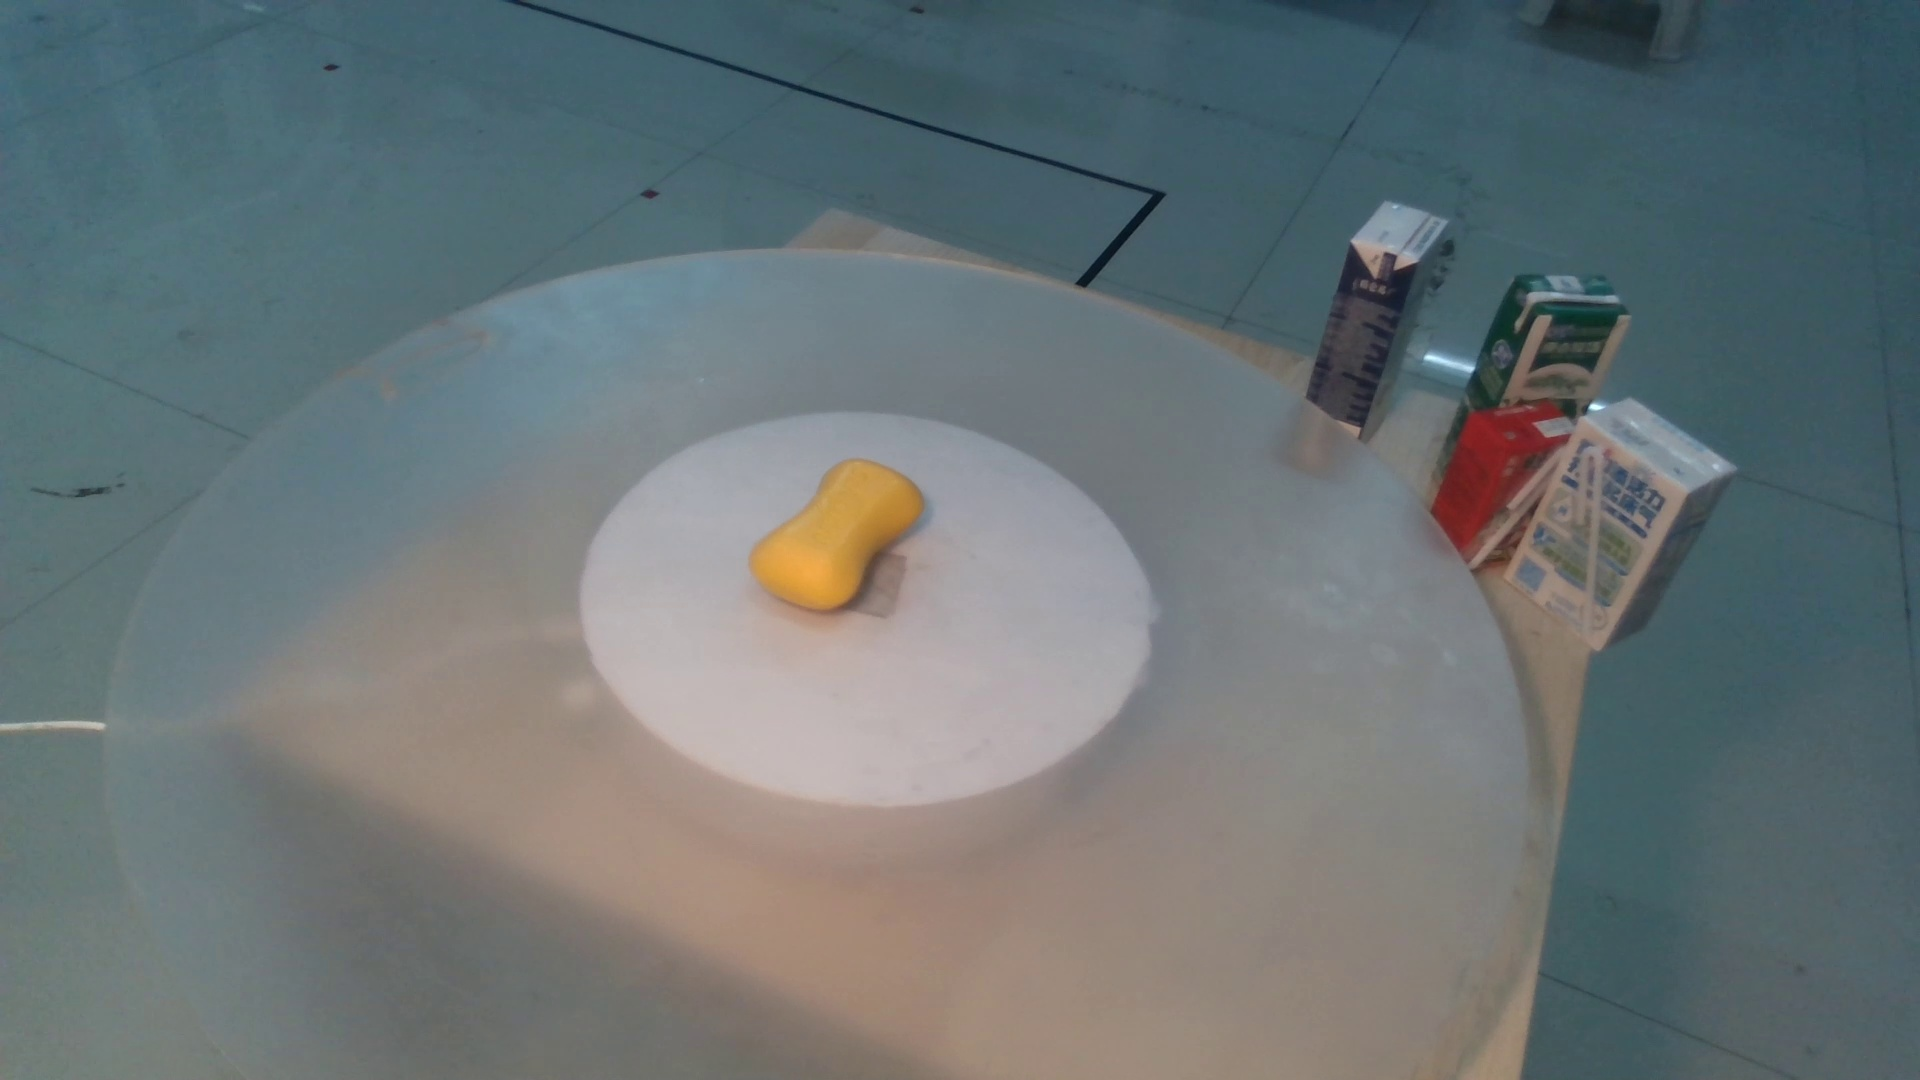CA003_1: (719, 444, 980, 611)
